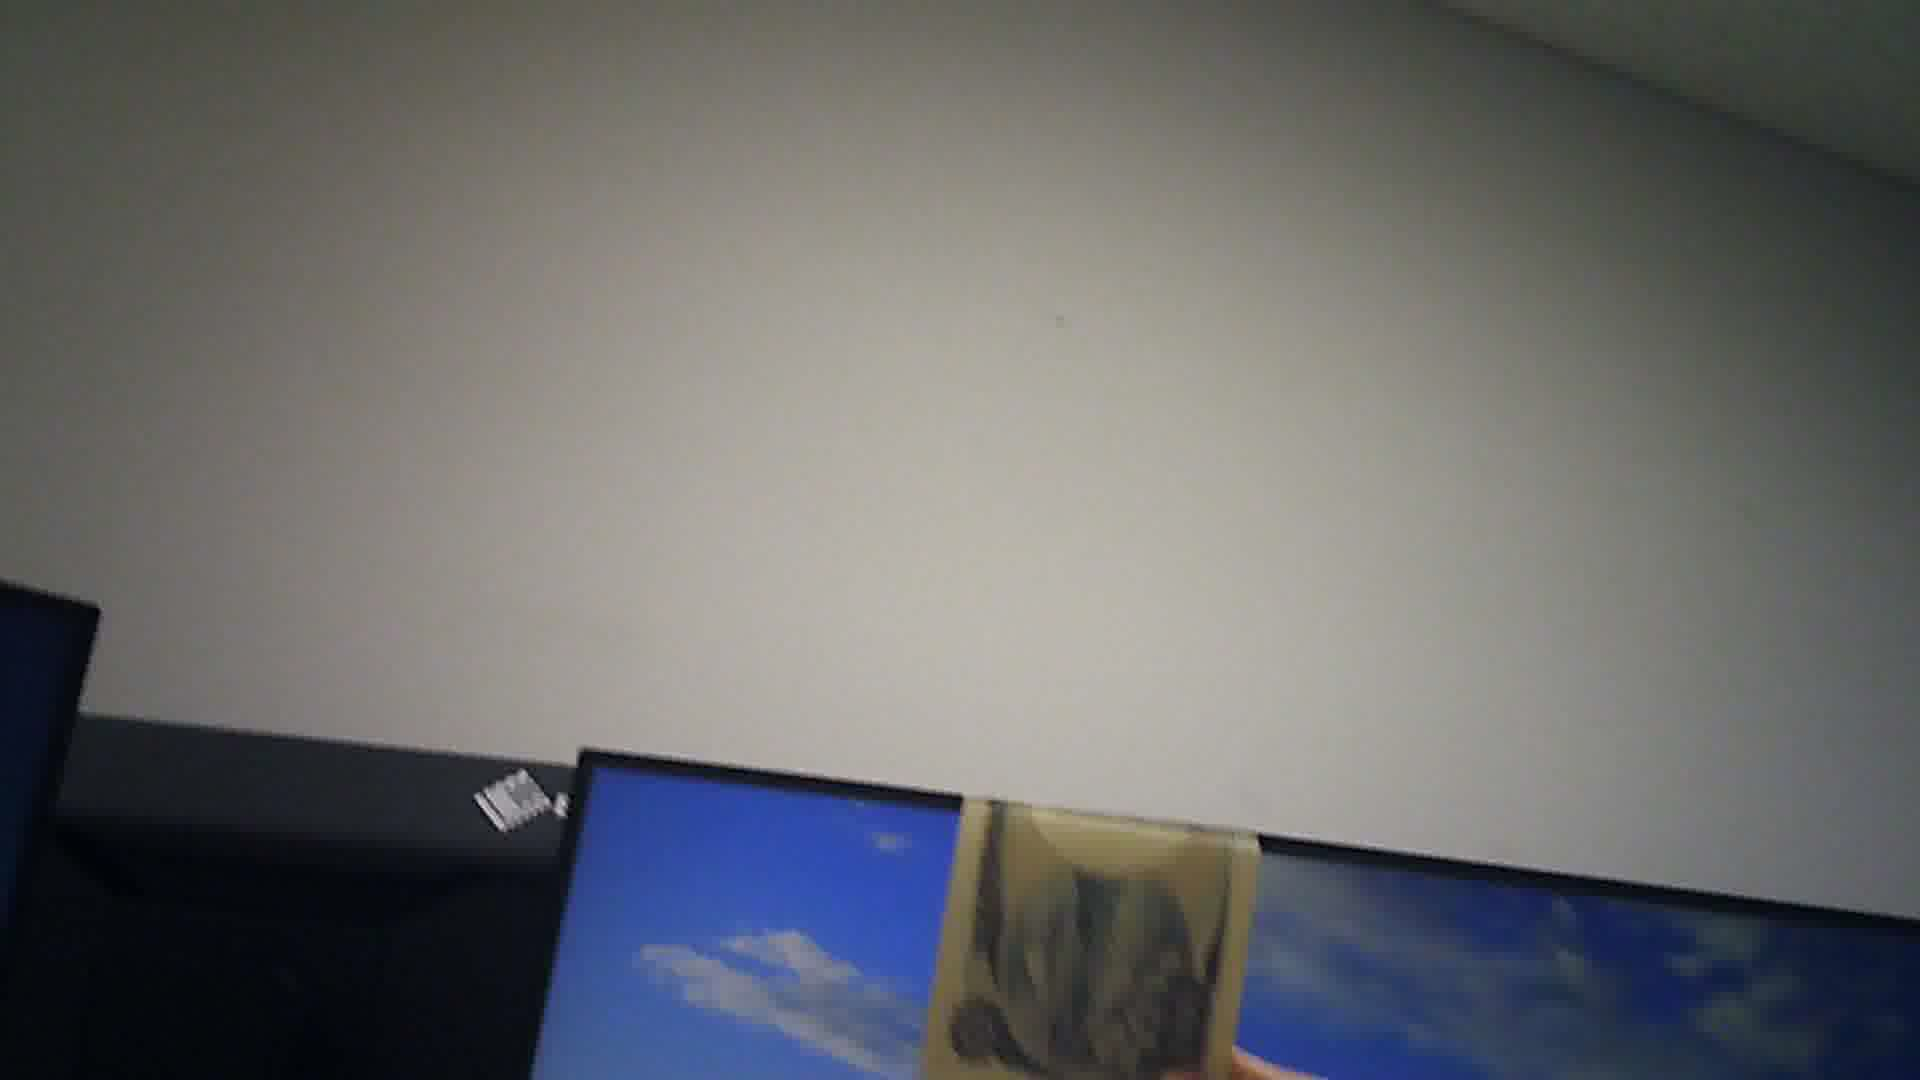1,000 Yen: (924, 800, 1230, 1079)
